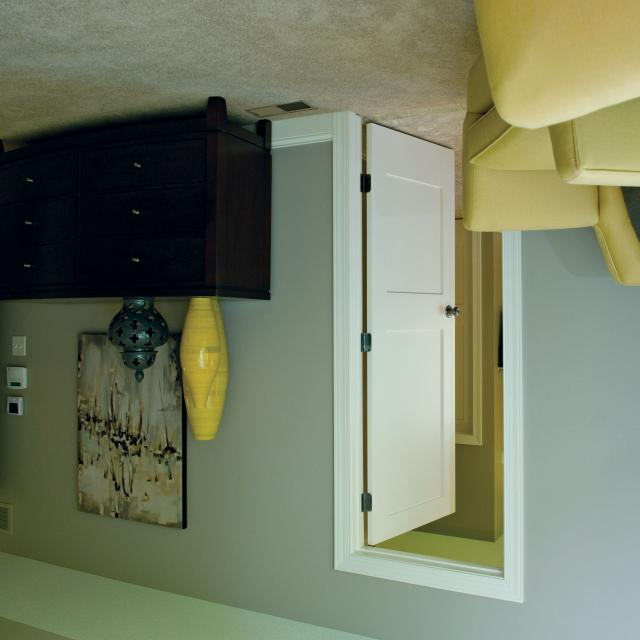open: (341, 103, 515, 592)
